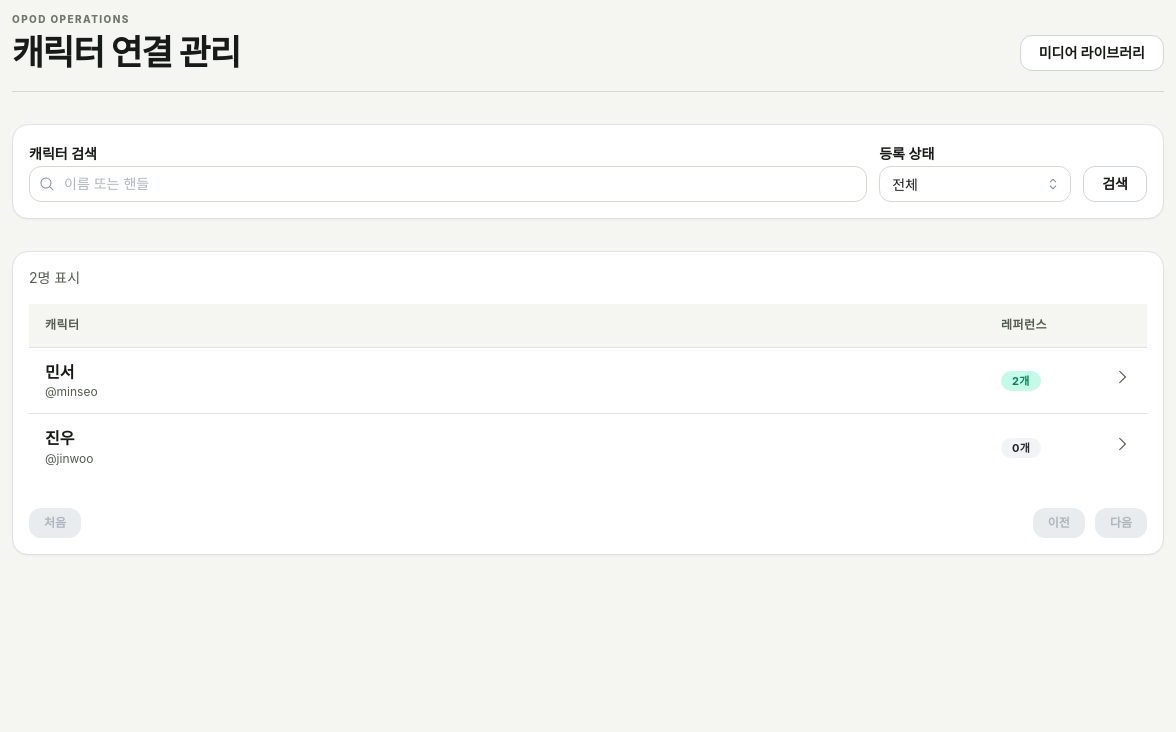
Test: character SNS reference list and detail › opens a separate detail page from a row and displays all of that character's references
The image size is (1176, 732).
Click the cell "2개". click: (1041, 380)
box: [985,347,1097,414]
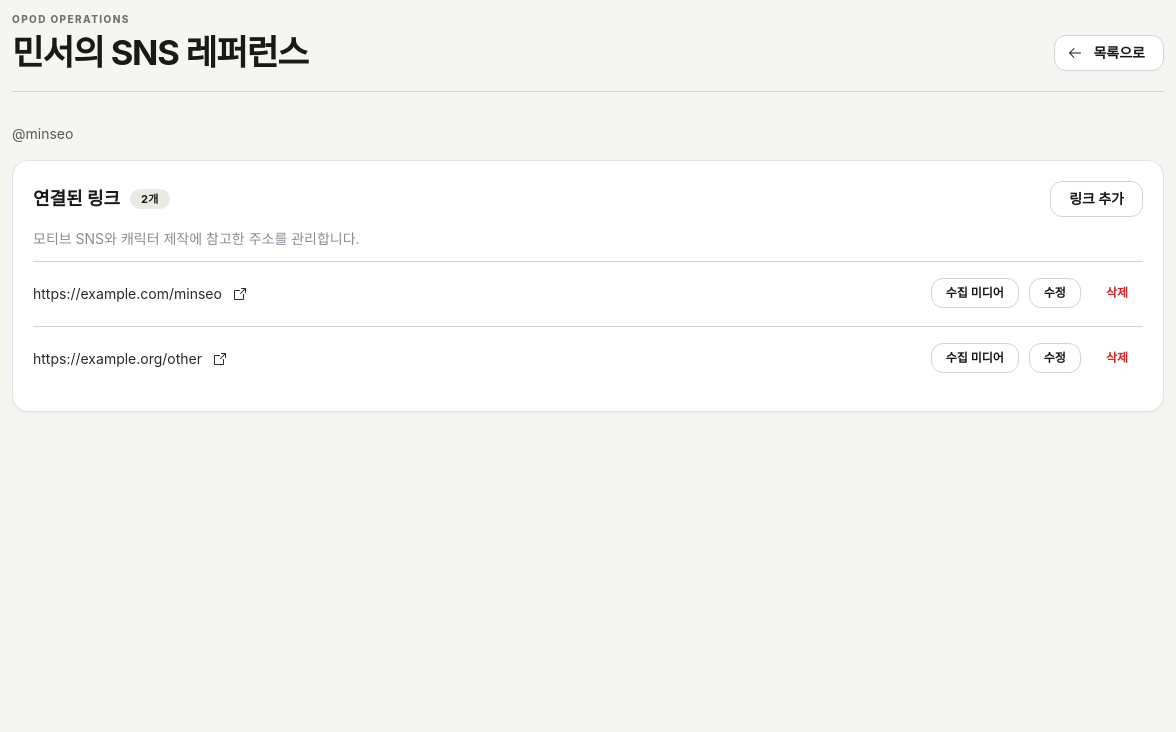
expect the heading "민서의 SNS 레퍼런스" is shown: met, box [12,34,308,71]
expect the table is gone: met
expect the link with aria-label "https://example.org/other 새 탭에서 열기" is shown: met, box [33,350,228,368]
Click the button "목록으로". click: (1109, 53)
box: [1054,35,1164,71]
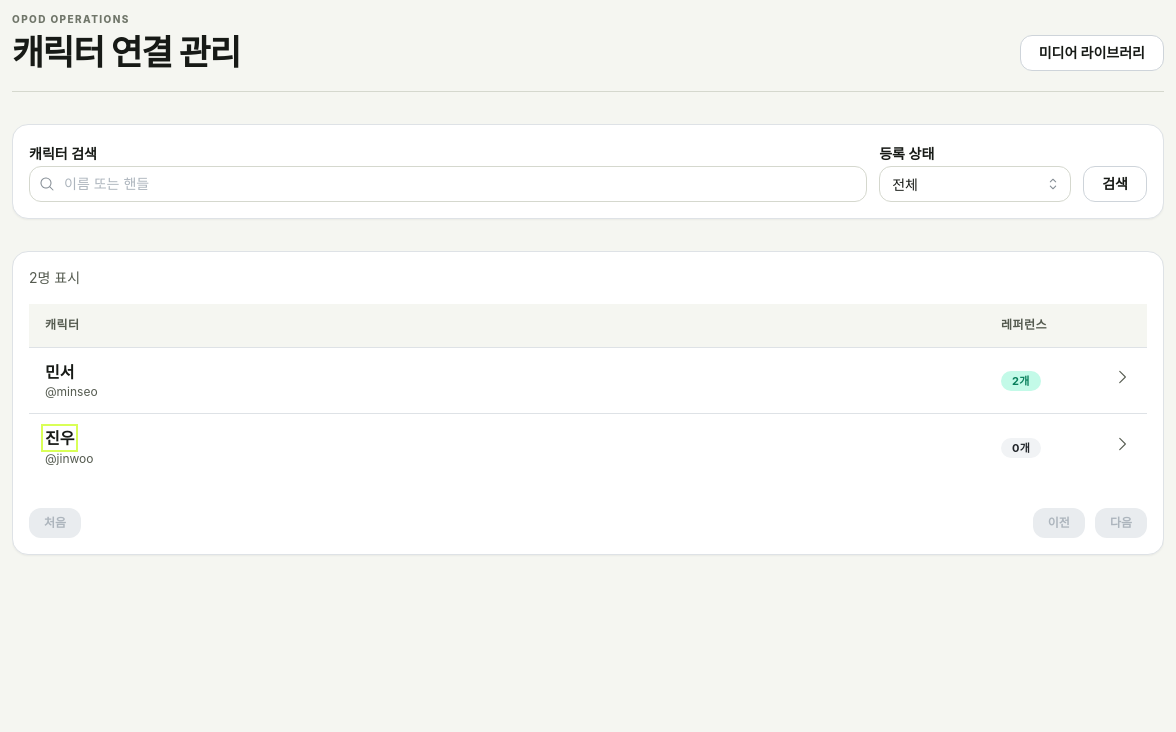
Press Enter
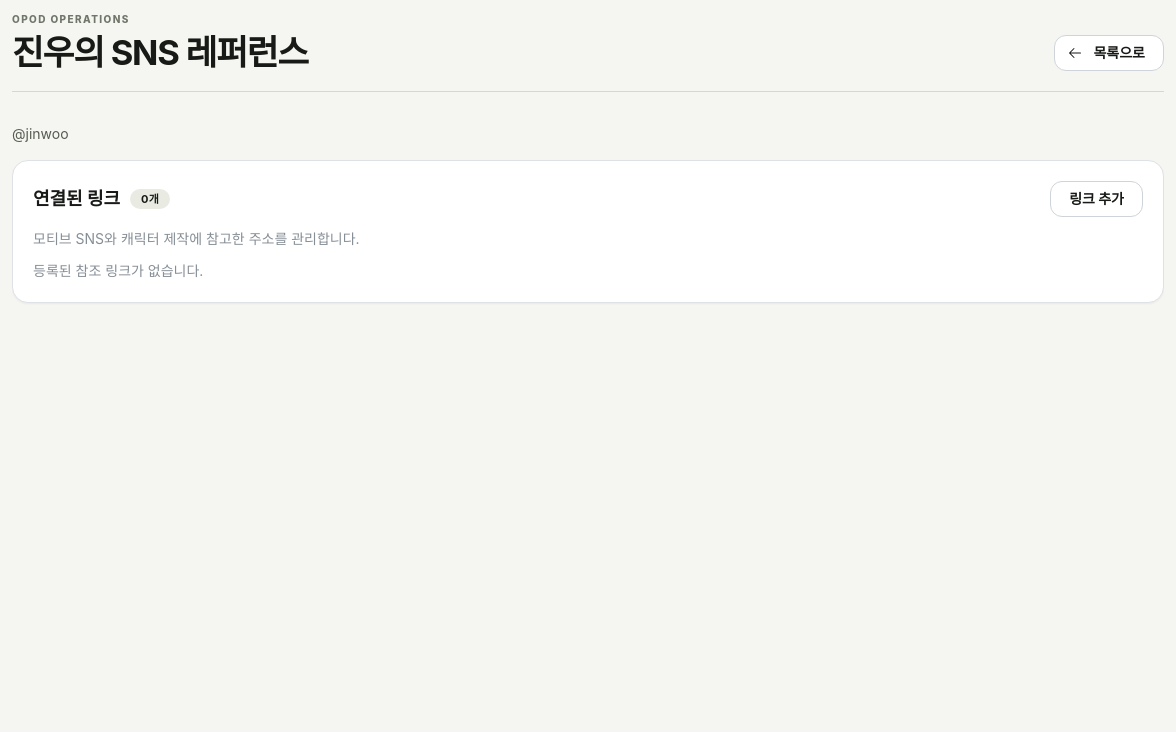
expect the heading "진우의 SNS 레퍼런스" is shown: met, box [12,34,308,71]
expect the text "등록된 참조 링크가 없습니다." is shown: met, box [33,262,203,279]
